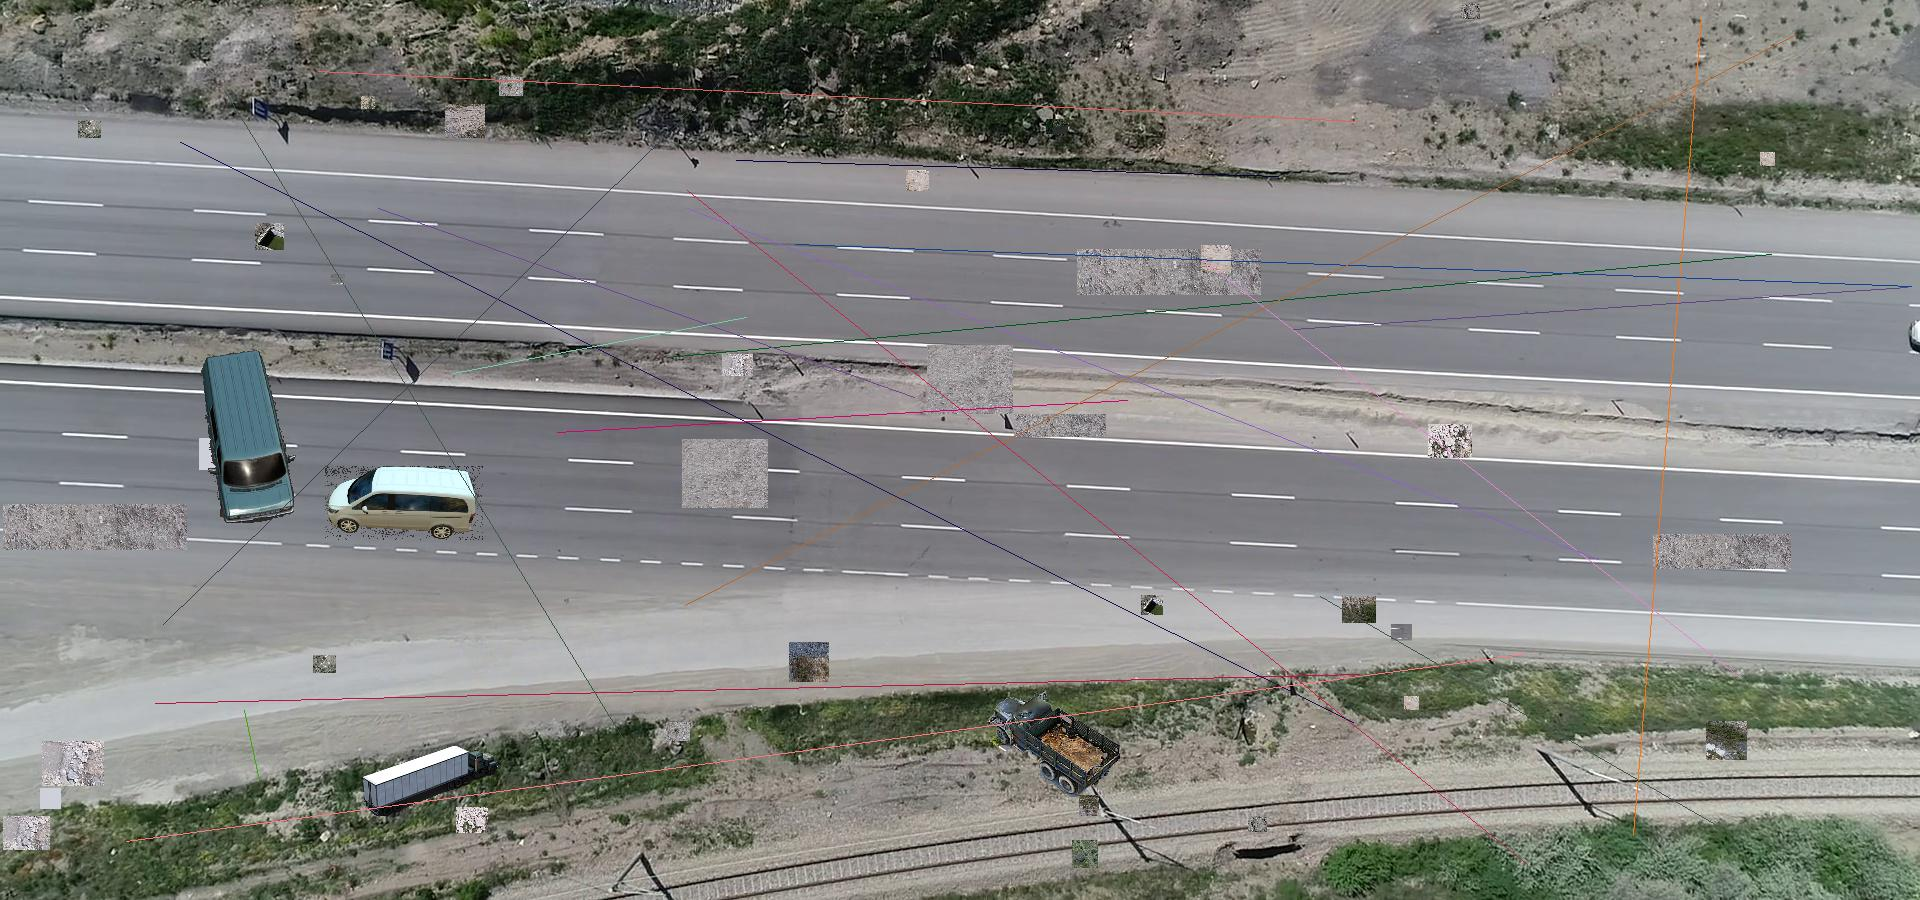arac: (200, 349, 298, 523), (982, 689, 1120, 797), (324, 467, 482, 540), (358, 746, 500, 816)
